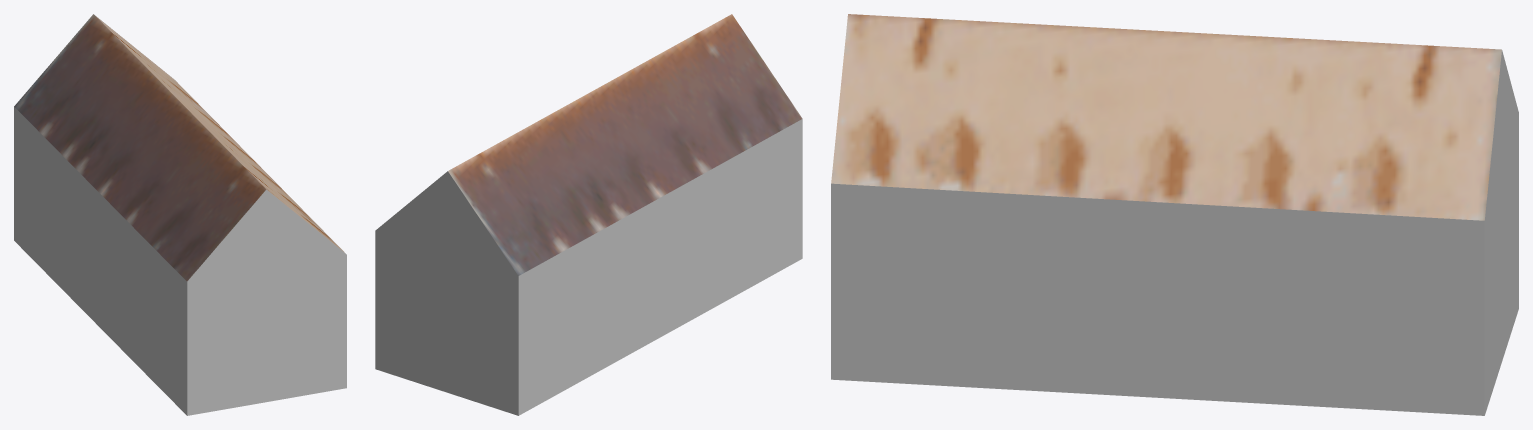
The model's file is DEBW_0010007Tx4S.gltf.
3 views of the same model, side by side, from view 1: azimuth 30°, elevation 25°; view 2: azimuth 150°, elevation 25°; view 3: azimuth 270°, elevation 25° (orthographic). The views are drawn at different scales.
Visible parts, largest first — view 1: Z_UP; view 2: Z_UP; view 3: Z_UP.
Boxes of the visible parts, left/top/right/bottom form: Z_UP: left=14, top=14, right=346, bottom=415; Z_UP: left=375, top=14, right=802, bottom=415; Z_UP: left=831, top=14, right=1518, bottom=415.
Size of the model in its own units: 13.54 by 13.85 by 27.63.
Materials: 2 (1 with a texture image).
